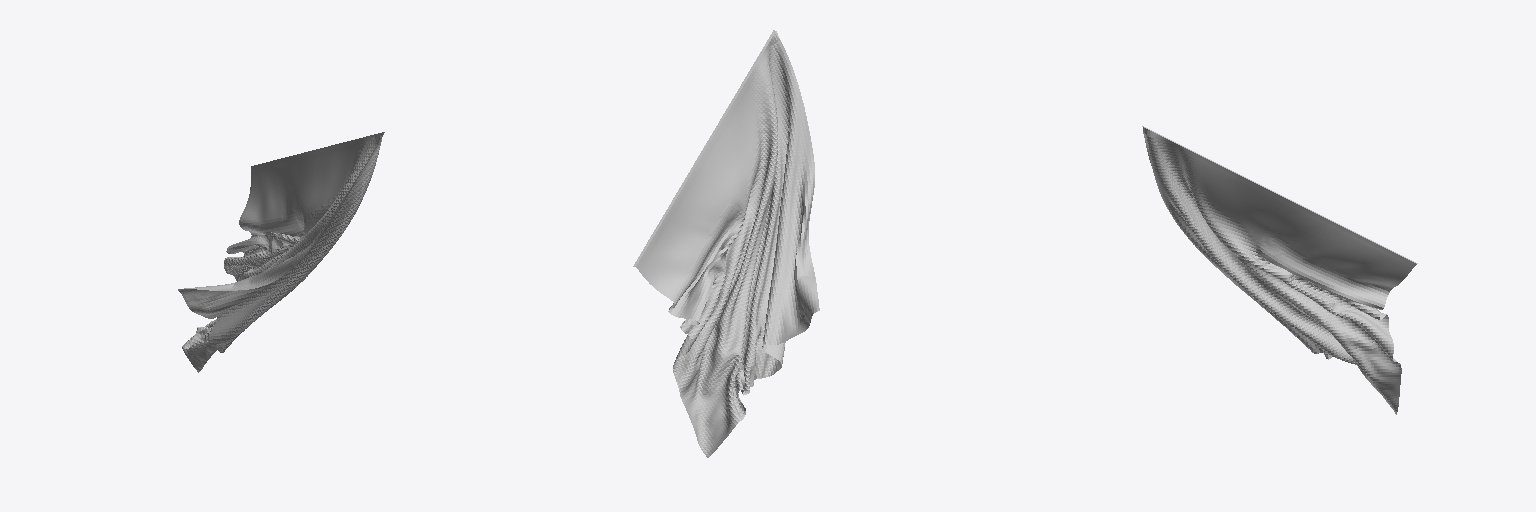
File: backskin.obj
3 renders of one model, left to right at view 1: azimuth 30°, elevation 25°; view 2: azimuth 150°, elevation 25°; view 3: azimuth 270°, elevation 25°, orthographic.
Visible parts, largest first — view 1: max_squished5; view 2: max_squished5; view 3: max_squished5.
Boxes of the visible parts, x1=… form: max_squished5: x1=178, y1=132, x2=384, y2=372; max_squished5: x1=633, y1=30, x2=819, y2=457; max_squished5: x1=1142, y1=126, x2=1417, y2=414.
Bounding box in the file's own units: 11.56 × 26.72 × 20.84.